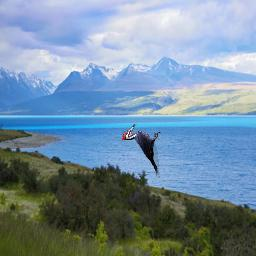Woodpecker: (122, 124, 161, 178)
